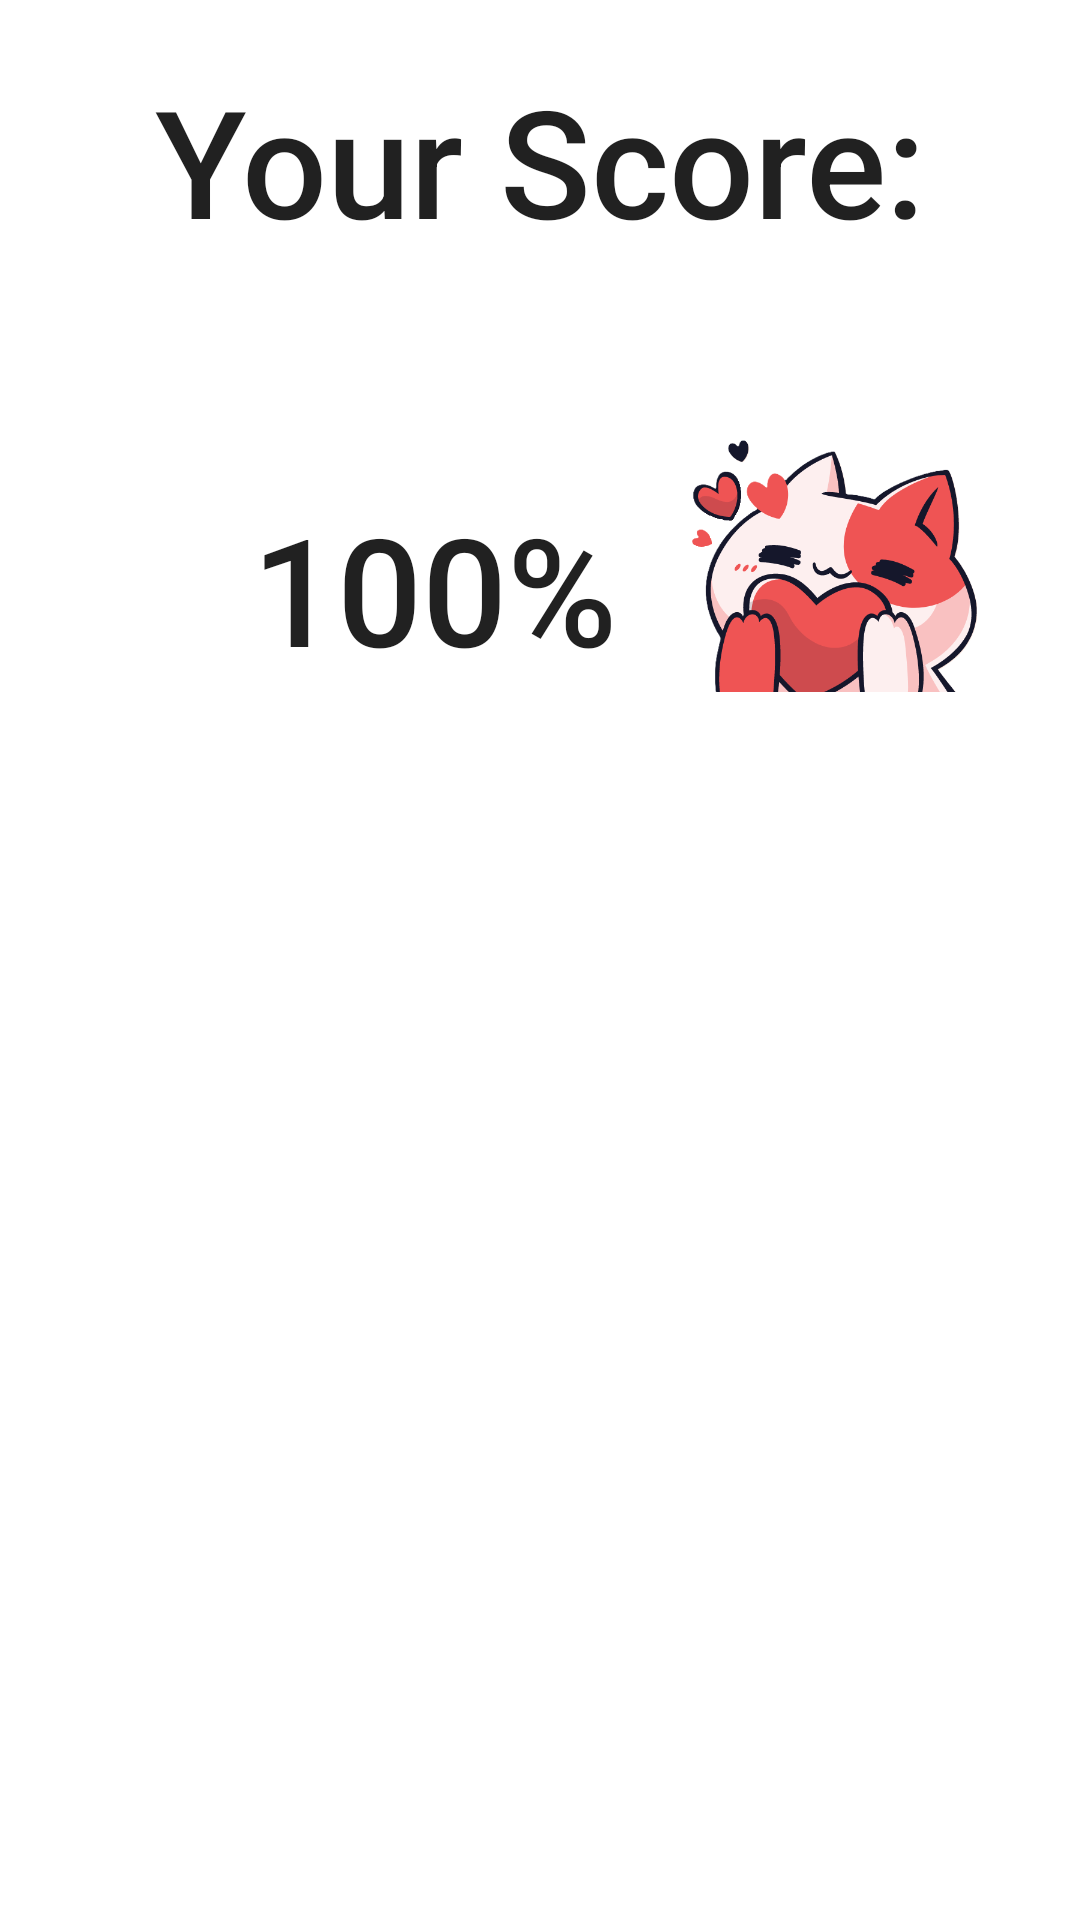

Screen size 1080px x 1920px. Icon name, then its center in pixels as [x,y]:
michi love: [834,566]
